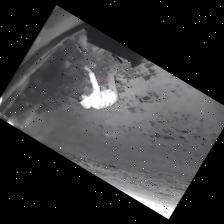person: (78, 53, 122, 108)
